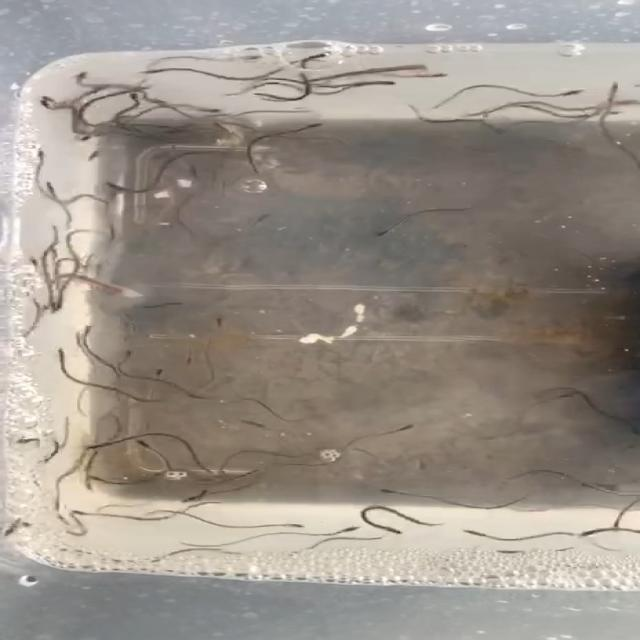inactive_glass_eel: (362, 218, 400, 240), (219, 416, 272, 430), (377, 419, 424, 434), (123, 432, 161, 449), (573, 108, 622, 121), (330, 520, 368, 536), (565, 476, 600, 492), (375, 484, 411, 499), (548, 85, 588, 98), (147, 366, 181, 381), (456, 526, 492, 540), (75, 320, 109, 334), (24, 145, 49, 164), (557, 389, 589, 402), (177, 490, 206, 504), (115, 349, 141, 363), (203, 316, 226, 331), (97, 182, 121, 196), (428, 72, 456, 84), (307, 121, 334, 133), (37, 94, 57, 110), (41, 303, 70, 314), (191, 102, 220, 113), (67, 70, 96, 81), (42, 179, 62, 194), (373, 76, 398, 88), (574, 528, 610, 536), (181, 163, 199, 179), (279, 522, 310, 531), (302, 52, 346, 58), (74, 132, 100, 142), (374, 526, 411, 533), (51, 346, 75, 356), (600, 81, 621, 92), (81, 148, 97, 162), (70, 508, 92, 518), (130, 93, 142, 103)
